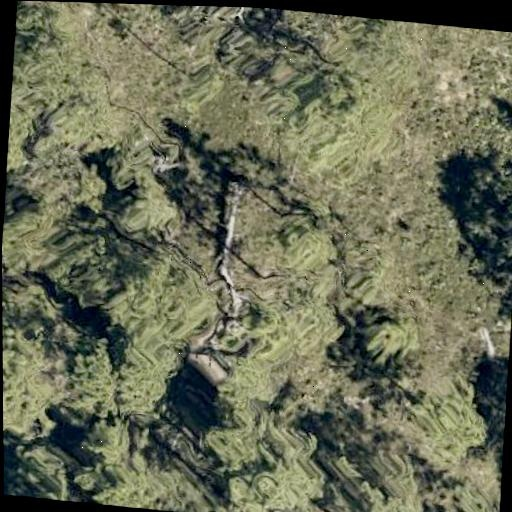tree-top: (237, 40, 397, 168), (99, 236, 206, 426), (74, 411, 195, 512), (398, 375, 491, 473), (111, 163, 194, 245)
